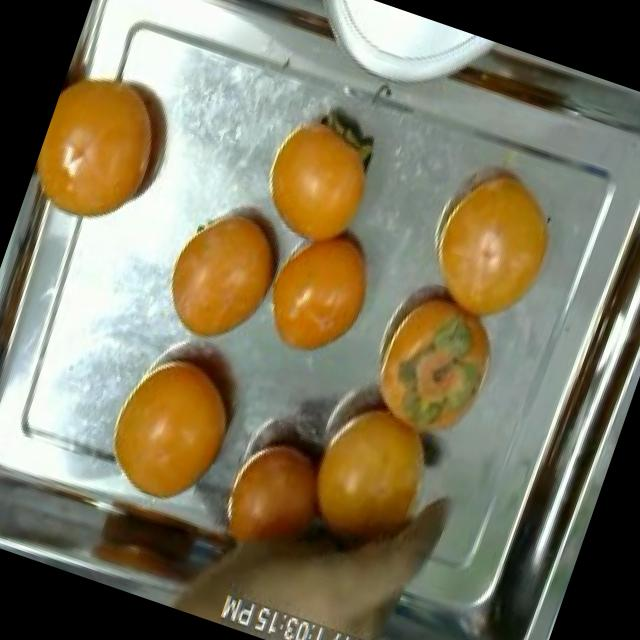Fruit: (268, 373, 471, 600), (178, 410, 362, 638), (20, 47, 198, 251), (84, 326, 263, 526), (236, 81, 402, 272), (355, 268, 519, 460), (414, 150, 575, 338), (144, 180, 304, 365), (247, 206, 394, 377)
